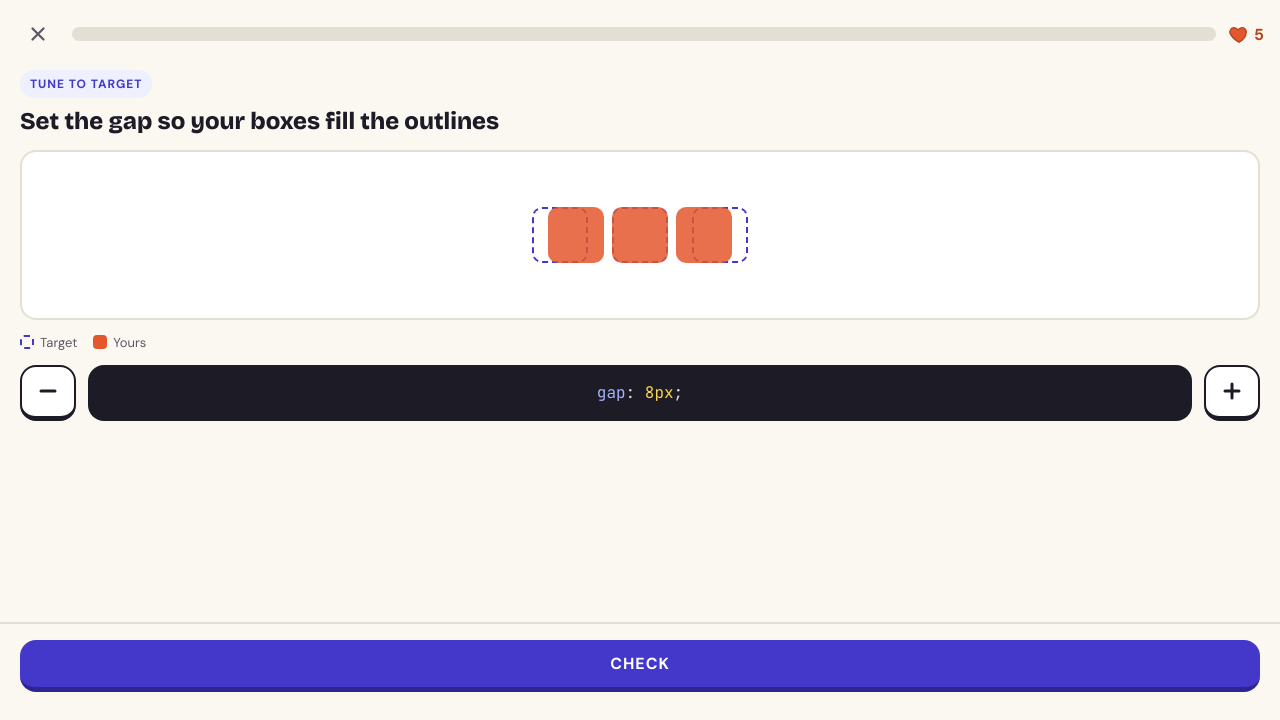
Test: Tune to target › steps the value, redraws your row live, and grades against the target
The width and height of the screenshot is (1280, 720).
Expected: the text "8px" is shown, [645,382,674,403]
Click the button named "Increase value": (1232, 393) [1204,365,1260,421]
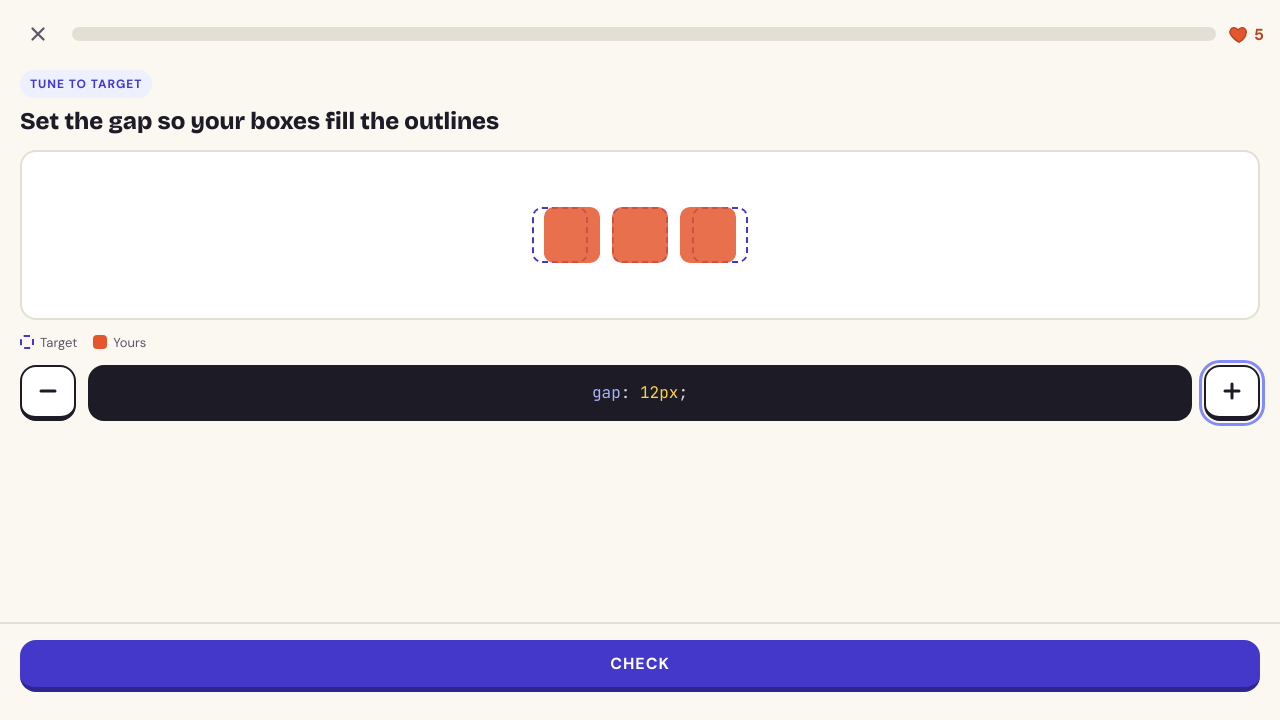
Click the button named "Increase value": (1232, 393) [1204,365,1260,421]
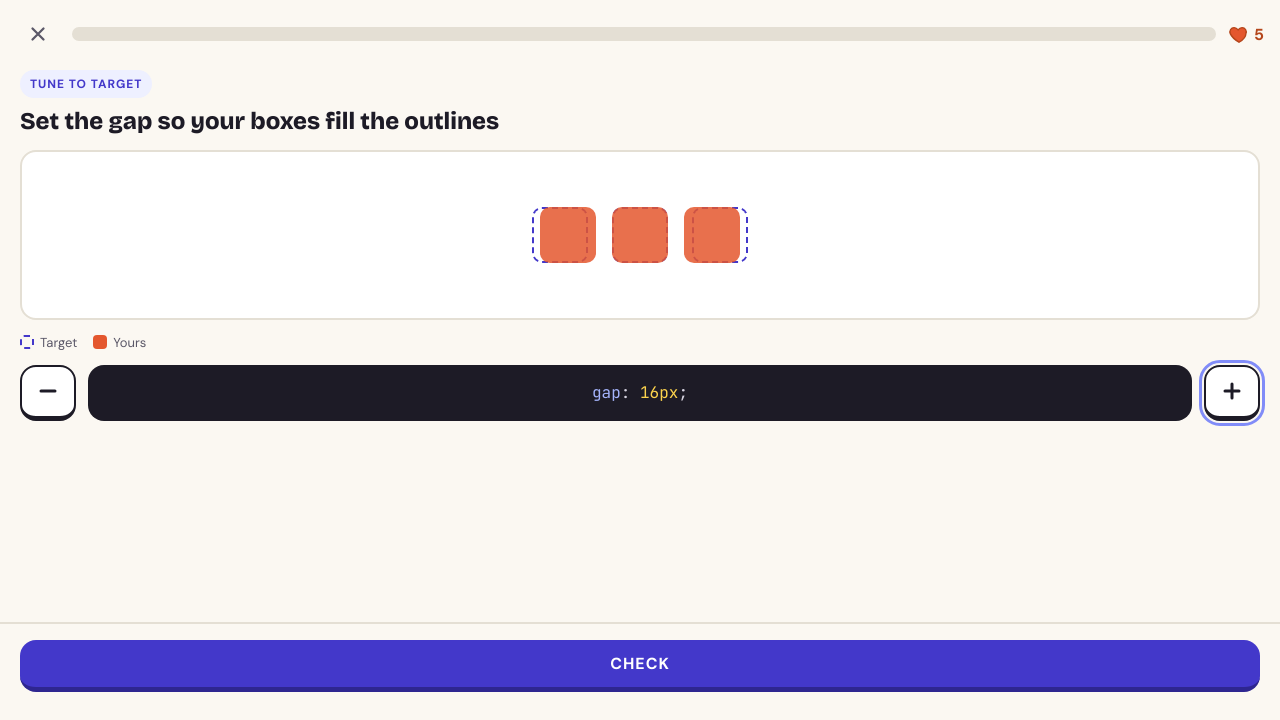
Click the button named "Increase value": (1232, 393) [1204,365,1260,421]
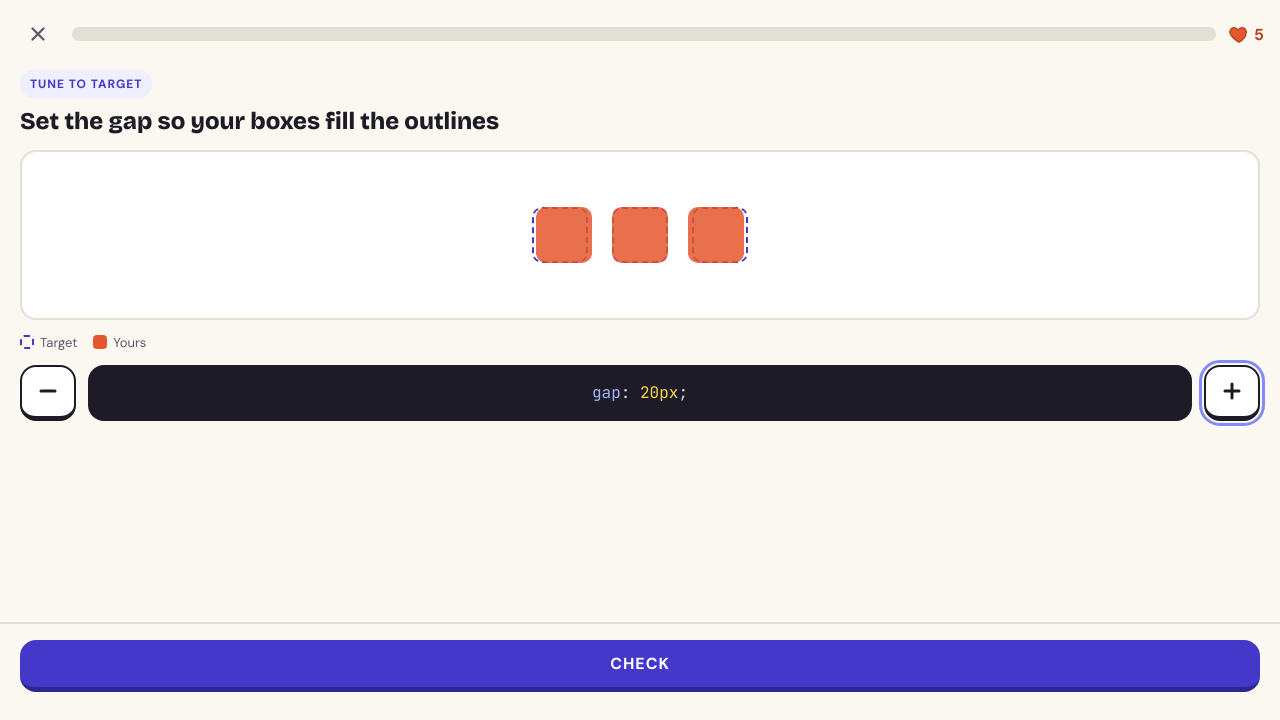
Click the button named "Increase value": (1232, 393) [1204,365,1260,421]
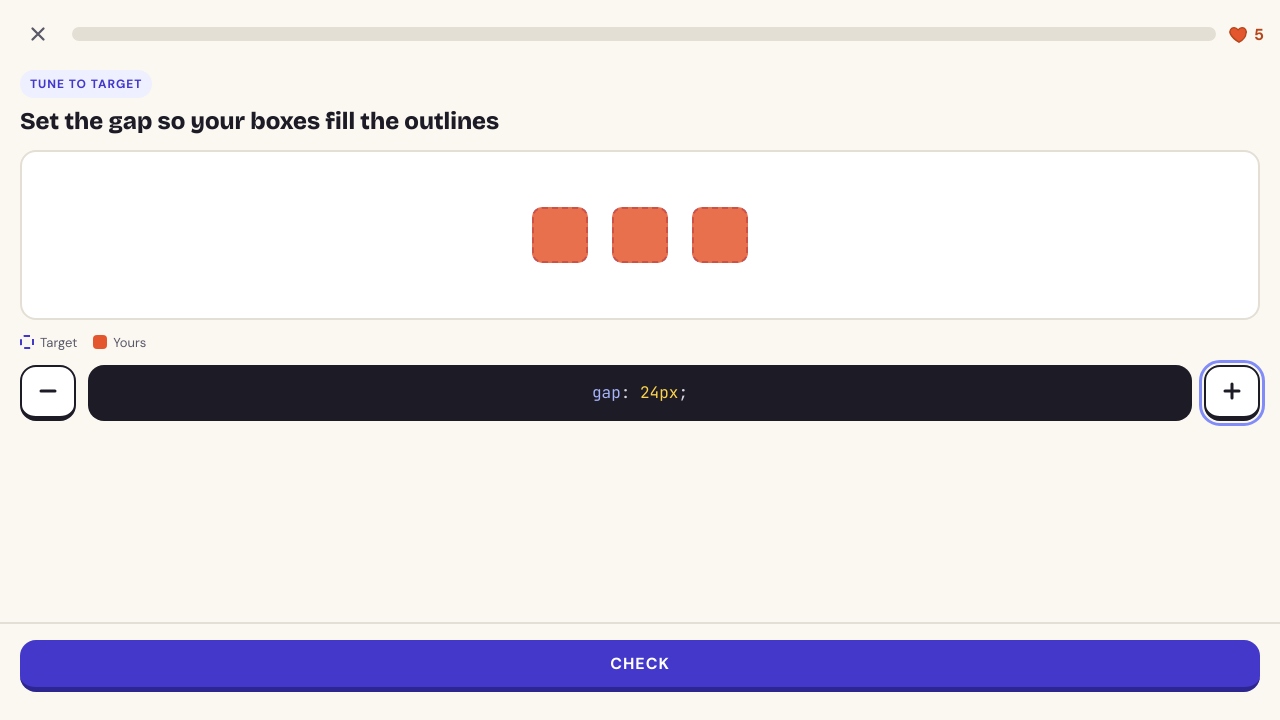
Now the text "24px" is shown, box [640,382,678,403]
Click the button "Check": (640, 666) [20,640,1260,692]
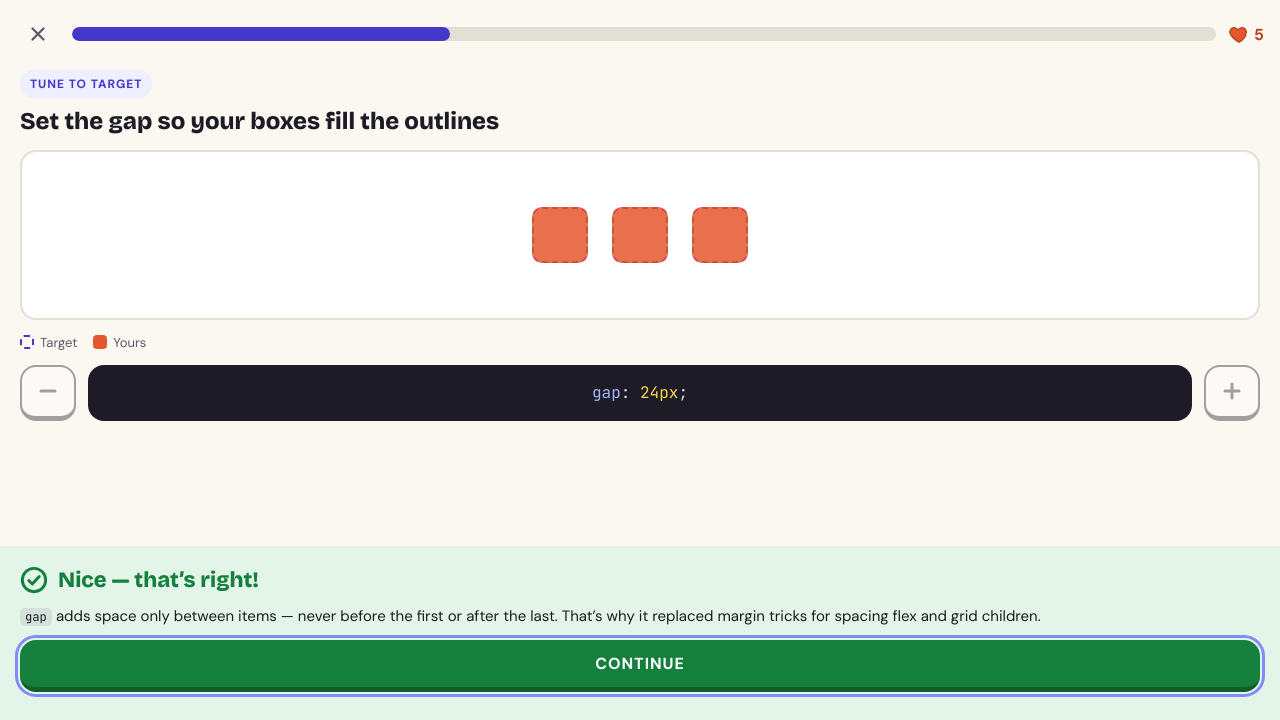
Now the element named "Feedback" shows "Nice — that’s right!", box [58,567,259,593]
Now the button named "Increase value" is disabled, box [1204,365,1260,421]
